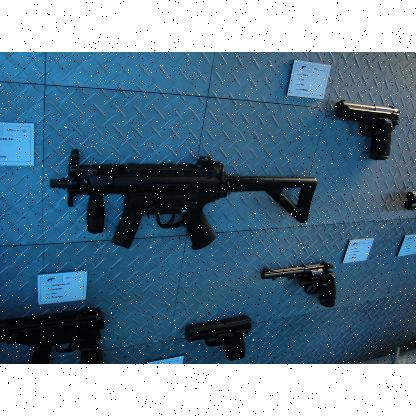gun: (48, 148, 318, 250), (336, 99, 400, 159), (262, 261, 336, 307), (185, 315, 249, 361)
